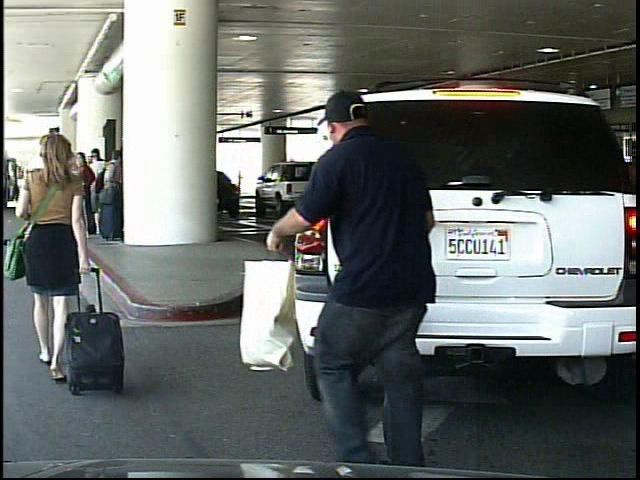person: (296, 82, 462, 467), (5, 124, 103, 404)
